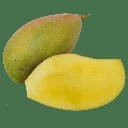mango: (3, 13, 90, 84), (25, 54, 127, 112)
